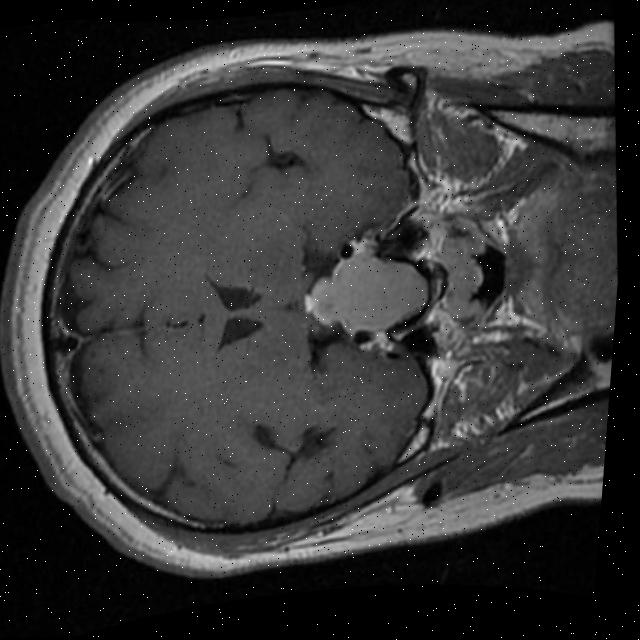Pituitary: (305, 247, 435, 336)
